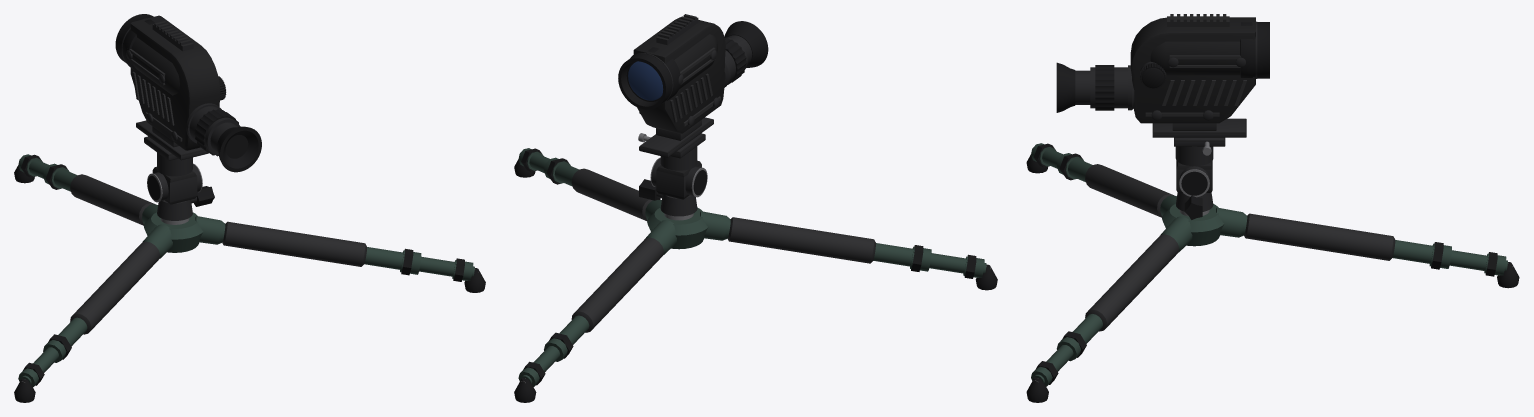
Rendered from spotter60_prone.glb.
3 views of the same model, side by side, from view 1: azimuth 30°, elevation 25°; view 2: azimuth 150°, elevation 25°; view 3: azimuth 270°, elevation 25° (orthographic). The views are drawn at different scales.
Visible parts, largest first — view 1: spotter60_prone; view 2: spotter60_prone; view 3: spotter60_prone.
Boxes of the visible parts, x1,y1,x2,y2 form: spotter60_prone: [14, 14, 485, 402]; spotter60_prone: [514, 14, 997, 402]; spotter60_prone: [1026, 14, 1519, 402].
Size of the model in its own units: 0.902 by 0.47 by 0.786.
